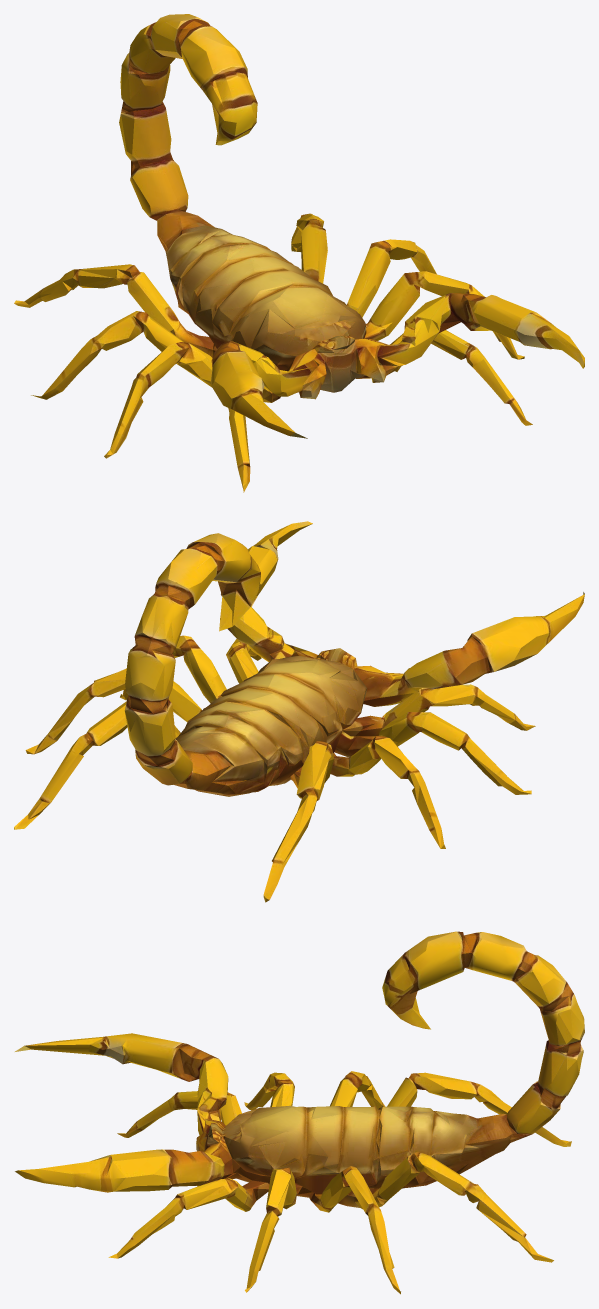
File: scorpion.glb
3 views of the same model, one above another, from view 1: azimuth 30°, elevation 25°; view 2: azimuth 150°, elevation 25°; view 3: azimuth 270°, elevation 25° (orthographic). The views are drawn at different scales.
Bounding box in the file's own units: 1.5 × 0.9834 × 1.9.
Materials: 1 (1 with a texture image).
